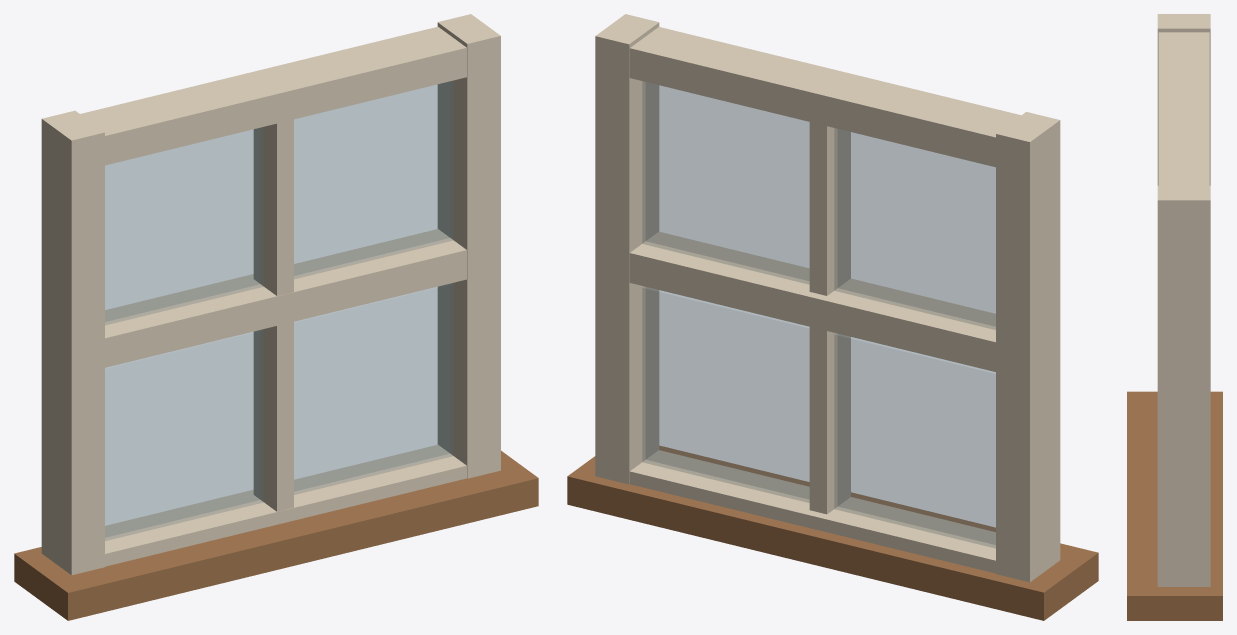
File: double_hung_window.glb
The picture shows the model from 3 angles, left to right: view 1: azimuth 30°, elevation 25°; view 2: azimuth 150°, elevation 25°; view 3: azimuth 270°, elevation 25°; orthographic projection. The views are drawn at different scales.
Visible parts, largest first — view 1: Glazing, Glazing.001, Side jamb, Side jamb.001, Sill, Window rail.002, Window rail.001, Central muntin, Window rail; view 2: Glazing, Glazing.001, Side jamb, Side jamb.001, Sill, Window rail.002, Window rail.001, Central muntin, Window rail; view 3: Side jamb.001, Sill, Window rail.002, Side jamb.
Part boxes in pixels (x1=…): Glazing: x1=105, y1=283, x2=453, y2=540; Glazing.001: x1=105, y1=81, x2=453, y2=324; Side jamb: x1=41, y1=110, x2=104, y2=575; Side jamb.001: x1=437, y1=14, x2=500, y2=478; Sill: x1=14, y1=450, x2=538, y2=620; Window rail.002: x1=80, y1=26, x2=466, y2=165; Window rail.001: x1=105, y1=229, x2=466, y2=367; Central muntin: x1=253, y1=119, x2=293, y2=511; Window rail: x1=105, y1=445, x2=466, y2=566; Glazing: x1=642, y1=287, x2=995, y2=547; Glazing.001: x1=642, y1=81, x2=995, y2=329; Side jamb: x1=996, y1=112, x2=1060, y2=582; Side jamb.001: x1=595, y1=14, x2=659, y2=484; Sill: x1=567, y1=446, x2=1098, y2=620; Window rail.002: x1=629, y1=27, x2=1020, y2=167; Window rail.001: x1=629, y1=232, x2=995, y2=371; Central muntin: x1=809, y1=122, x2=850, y2=514; Window rail: x1=629, y1=450, x2=995, y2=573; Side jamb.001: x1=1157, y1=185, x2=1210, y2=586; Sill: x1=1127, y1=391, x2=1222, y2=620; Window rail.002: x1=1158, y1=32, x2=1209, y2=185; Side jamb: x1=1157, y1=14, x2=1210, y2=185.
Size of the model in its own units: 1.32 by 1.24 by 0.262.
